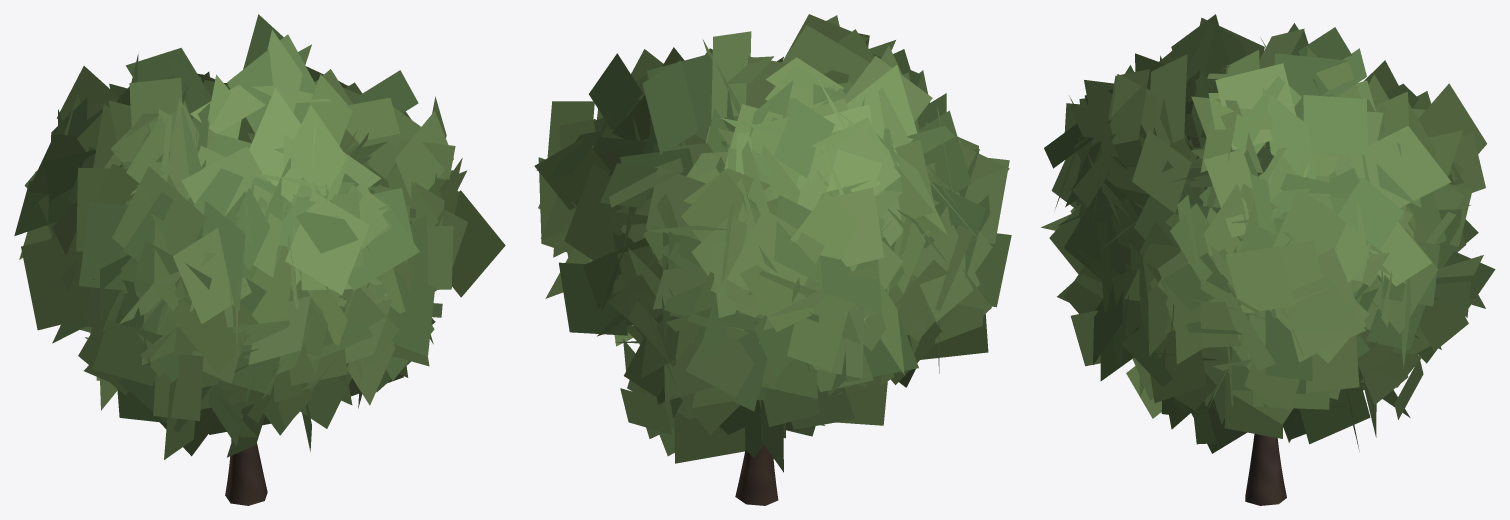
File: oak_1.glb
The picture shows the model from 3 angles, left to right: view 1: azimuth 30°, elevation 25°; view 2: azimuth 150°, elevation 25°; view 3: azimuth 270°, elevation 25°; orthographic projection.
Visible parts, largest first — view 1: oak_1; view 2: oak_1; view 3: oak_1.
Boxes of the visible parts, box(x1,y1,x2,y2) form: oak_1: box(14, 14, 505, 505); oak_1: box(534, 14, 1011, 505); oak_1: box(1041, 14, 1495, 505).
Bounding box in the file's own units: 1 × 1 × 0.911.
